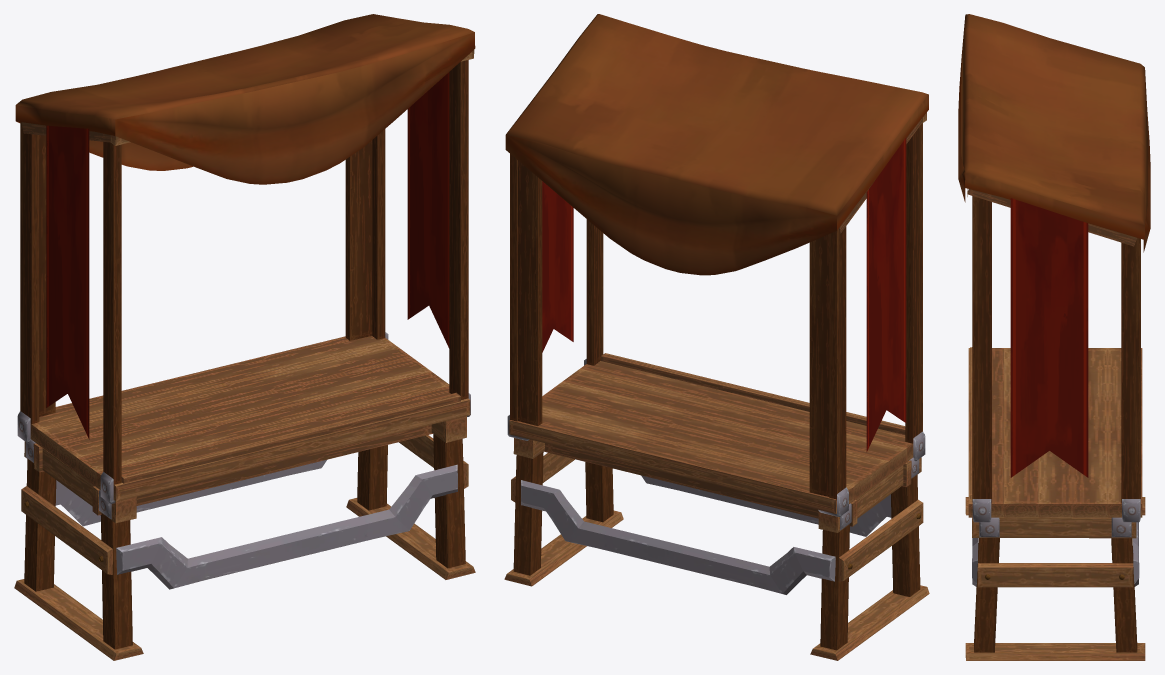
File: Stall_Empty.glb
3 views of the same model, side by side, from view 1: azimuth 30°, elevation 25°; view 2: azimuth 150°, elevation 25°; view 3: azimuth 270°, elevation 25° (orthographic). The views are drawn at different scales.
Visible parts, largest first — view 1: Stall_Empty; view 2: Stall_Empty; view 3: Stall_Empty.
Boxes of the visible parts, x1,y1,x2,y2 form: Stall_Empty: (14, 14, 475, 660); Stall_Empty: (504, 14, 929, 660); Stall_Empty: (958, 14, 1150, 660).
Size of the model in its own units: 1.84 by 2.63 by 0.9324.
3 materials, 3 textured.
